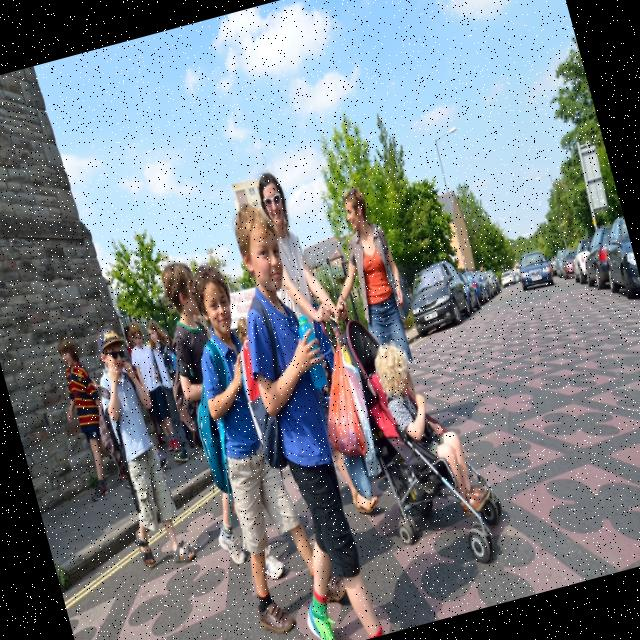Person: (197, 194, 395, 640), (167, 250, 353, 638), (145, 253, 288, 589), (75, 320, 198, 574), (368, 327, 493, 528), (310, 184, 422, 374), (254, 162, 352, 336), (46, 329, 126, 503), (121, 320, 182, 455), (143, 318, 199, 463)
